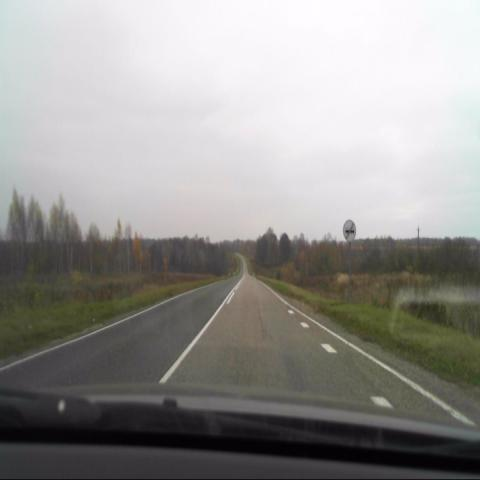3_21: (343, 218, 356, 243)
